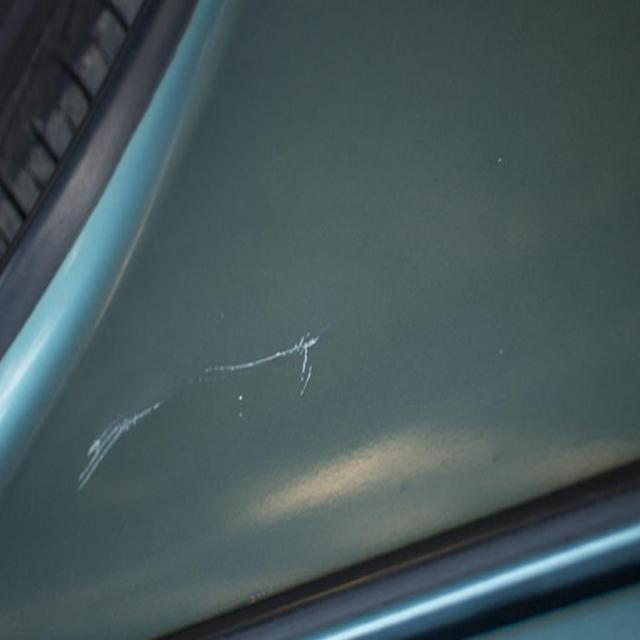scratch: (67, 317, 334, 501)
